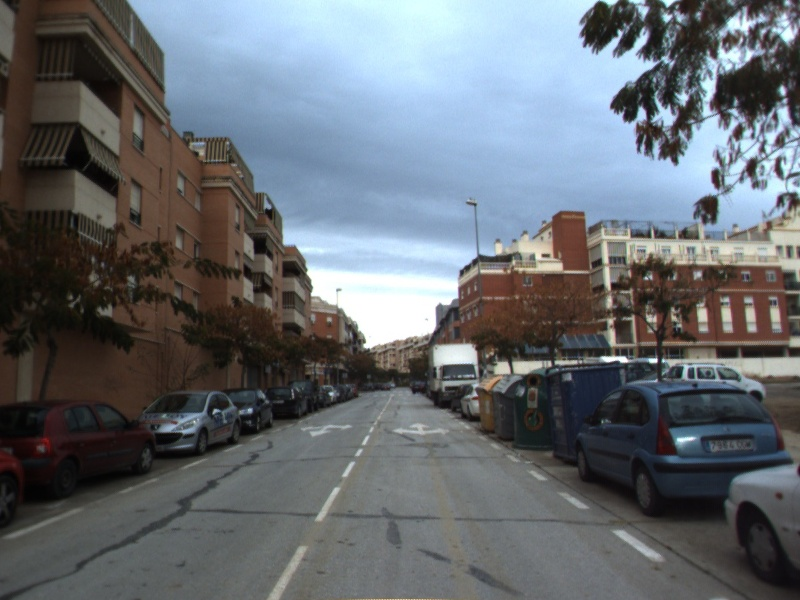STRAIGHT_LEFT_RIGHT: (390, 420, 452, 437)
